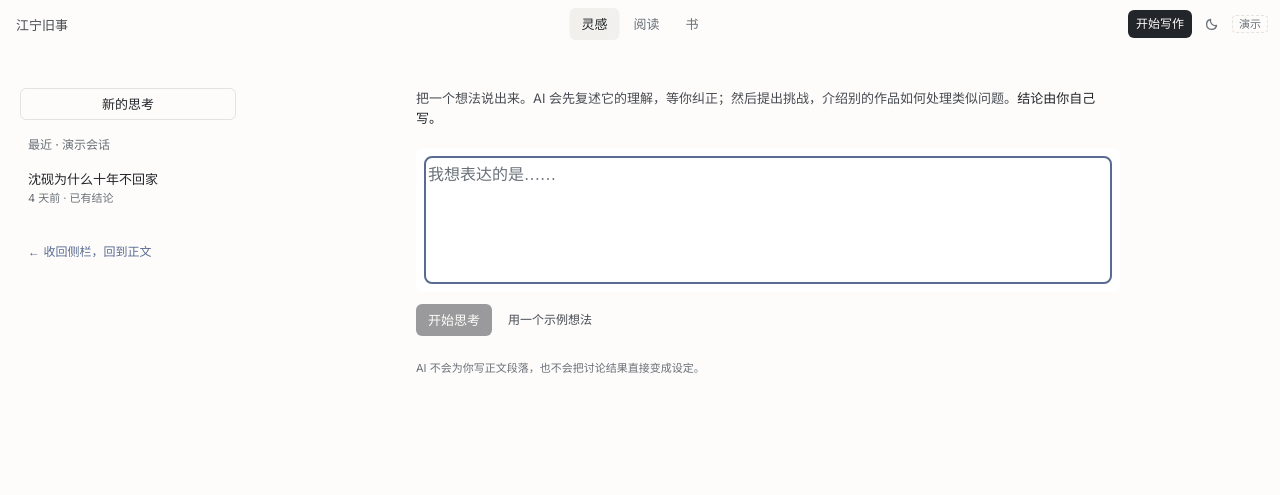
Test: Writer Agent studio › runs the demo thinking challenge workflow and keeps the author in control
Click the tab "灵感".
click(594, 24)  # box [570,8,620,40]
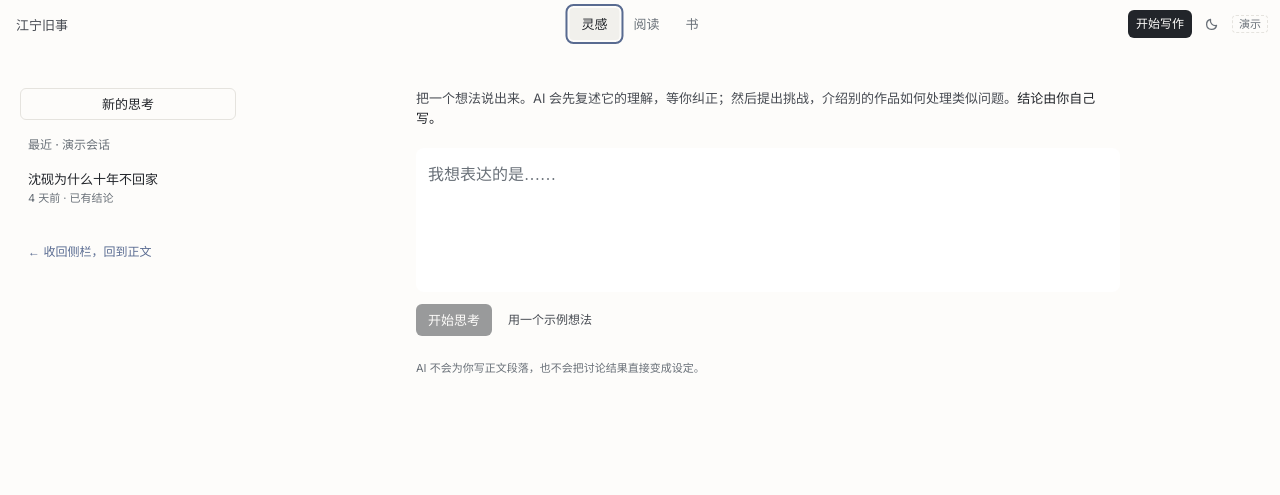
Type "测试作者意图" into the text box named "你的想法".
click(768, 220); type("测试作者意图")  # box [428,160,1108,280]
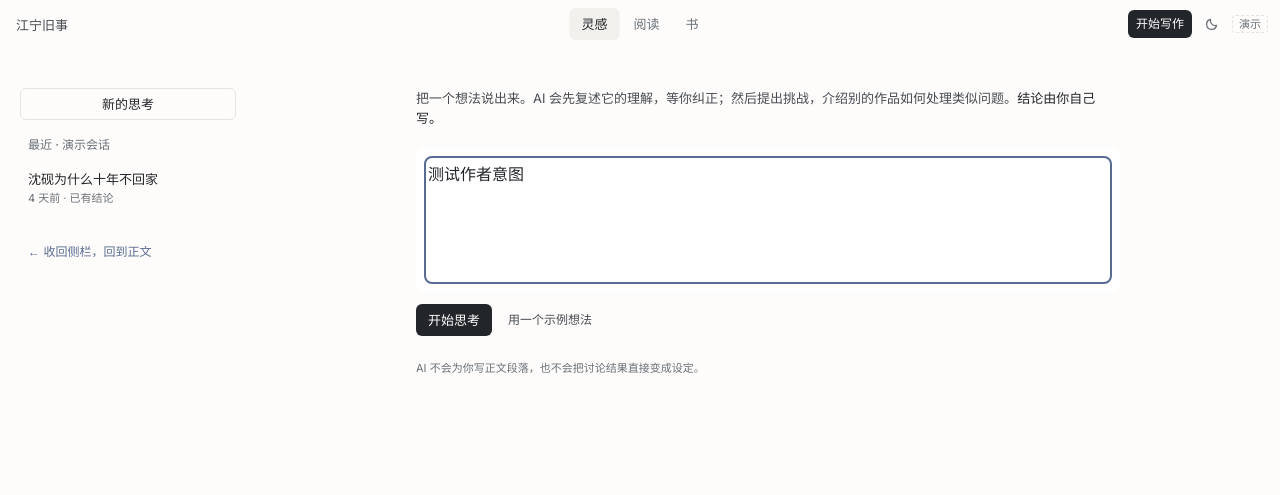
Click the button "开始思考".
click(454, 320)  # box [416,304,492,336]
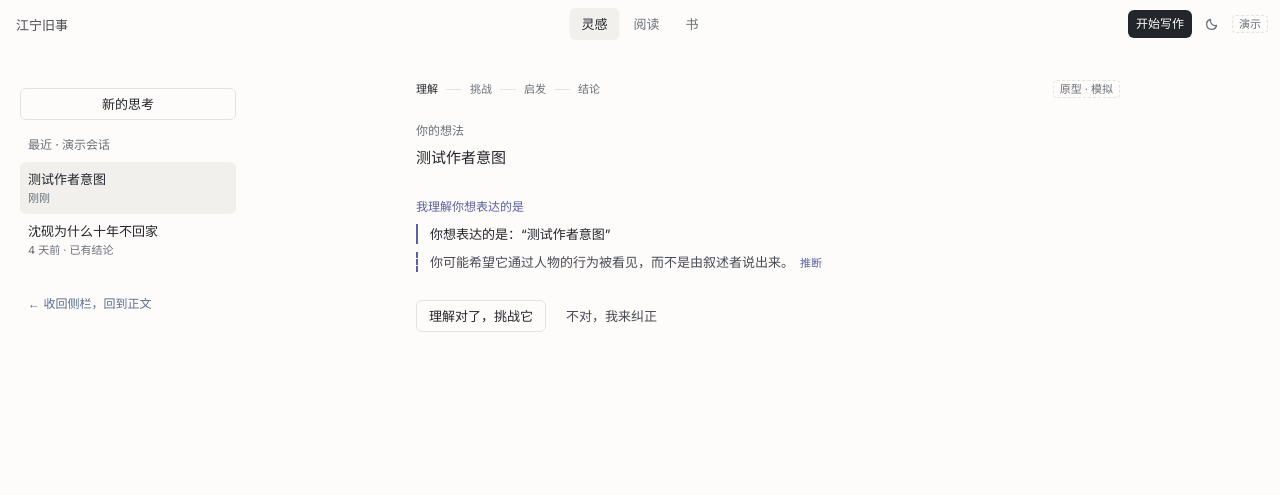
Click the button "理解对了，挑战它".
click(481, 316)  # box [416,300,546,332]
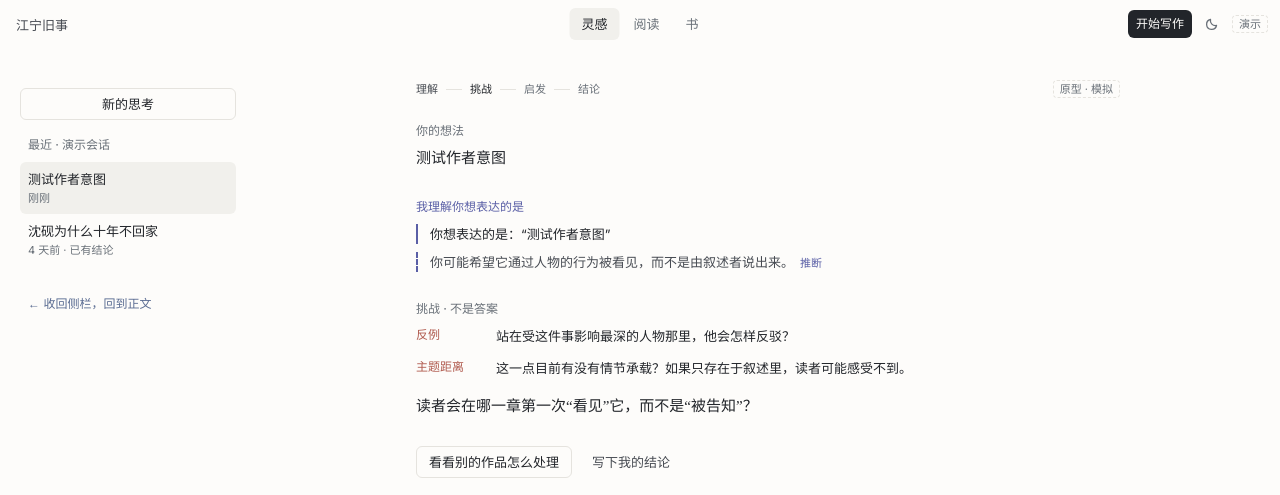
expect the text "原型 · 模拟" is shown: met, box [1053,80,1120,98]
expect the heading "挑战 · 不是答案" is shown: met, box [416,301,498,316]
